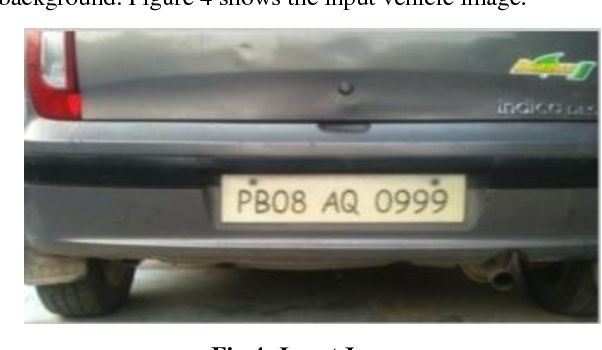number_plate: (218, 170, 470, 230)
